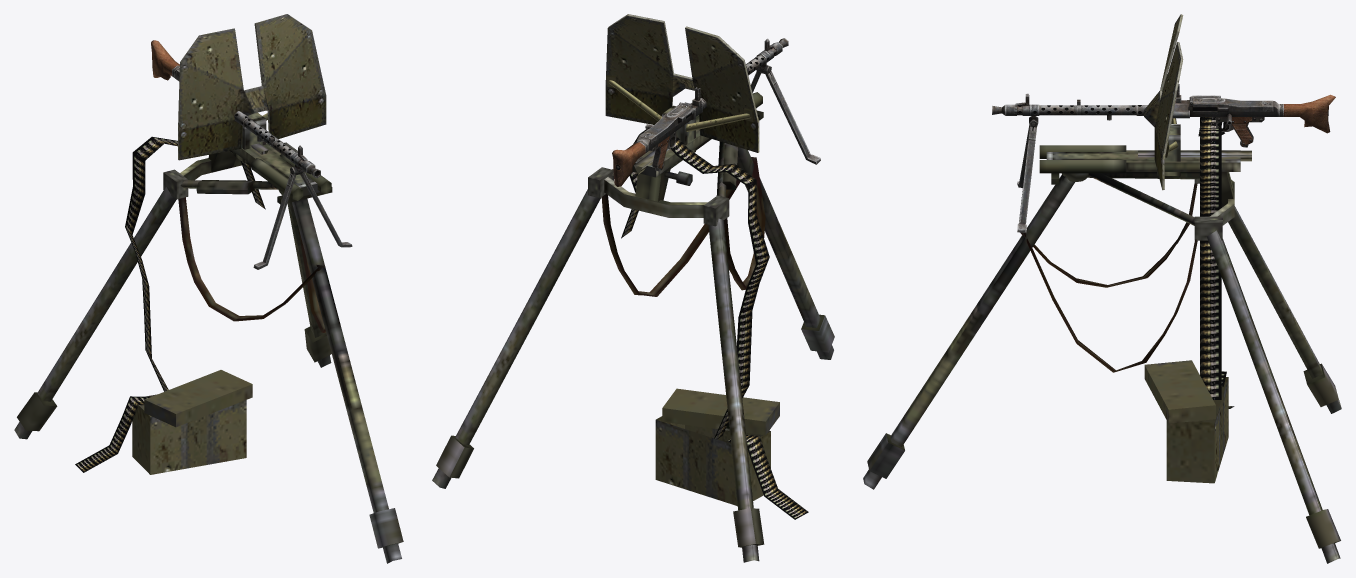
File: german_hmg.glb
The picture shows the model from 3 angles, left to right: view 1: azimuth 30°, elevation 25°; view 2: azimuth 150°, elevation 25°; view 3: azimuth 270°, elevation 25°; orthographic projection. The views are drawn at different scales.
Parts seen in each view (by area): view 1: mount_body, mount_shield, mount_cartridge_belt, equipment_mg34_mg34, mount_gun_rot; view 2: mount_body, mount_cartridge_belt, mount_shield, equipment_mg34_mg34, mount_gun_rot; view 3: mount_body, mount_cartridge_belt, equipment_mg34_mg34, mount_shield, mount_gun_rot.
Part boxes in pixels (bbox=[...]): mount_body: bbox=[14, 142, 403, 563]; mount_shield: bbox=[178, 14, 326, 160]; mount_cartridge_belt: bbox=[75, 136, 265, 474]; equipment_mg34_mg34: bbox=[151, 40, 352, 269]; mount_gun_rot: bbox=[233, 112, 268, 163]; mount_body: bbox=[432, 92, 834, 562]; mount_cartridge_belt: bbox=[621, 125, 808, 519]; mount_shield: bbox=[605, 14, 759, 152]; equipment_mg34_mg34: bbox=[612, 38, 820, 186]; mount_gun_rot: bbox=[634, 105, 695, 174]; mount_body: bbox=[863, 145, 1341, 563]; mount_cartridge_belt: bbox=[1144, 117, 1234, 483]; equipment_mg34_mg34: bbox=[992, 84, 1335, 233]; mount_shield: bbox=[1144, 14, 1183, 190]; mount_gun_rot: bbox=[1138, 124, 1251, 175].
Size of the model in its own units: 1.31 by 1.74 by 1.67.
Materials: 5 (5 with a texture image).
